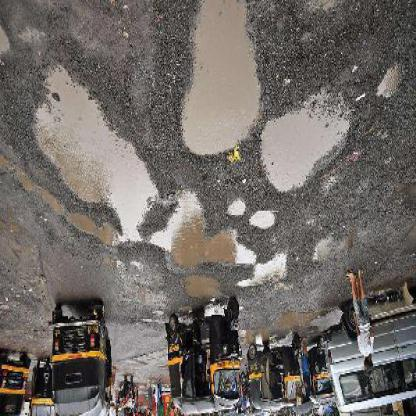pothole: (29, 66, 159, 259), (179, 2, 260, 162), (260, 92, 352, 198), (148, 193, 262, 276), (237, 254, 290, 294), (376, 66, 406, 105), (183, 274, 223, 303), (250, 212, 278, 235), (226, 202, 247, 220)
